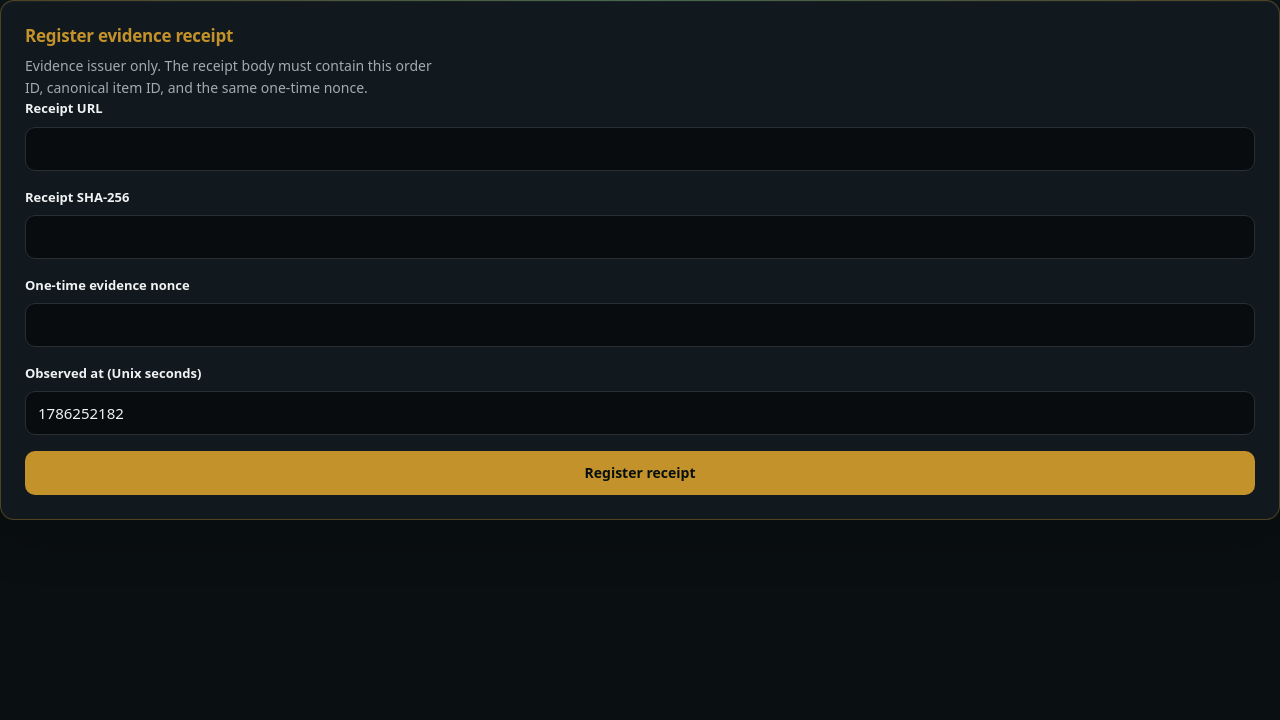
Test: order-bound evidence flow › validates the issuer receipt hash before registration
The image size is (1280, 720).
Type "https://gen-dispute.vercel.app/fixtures/order-0.html" into the field labelled "Receipt URL" at [640, 149], box [25,127,1255,171]
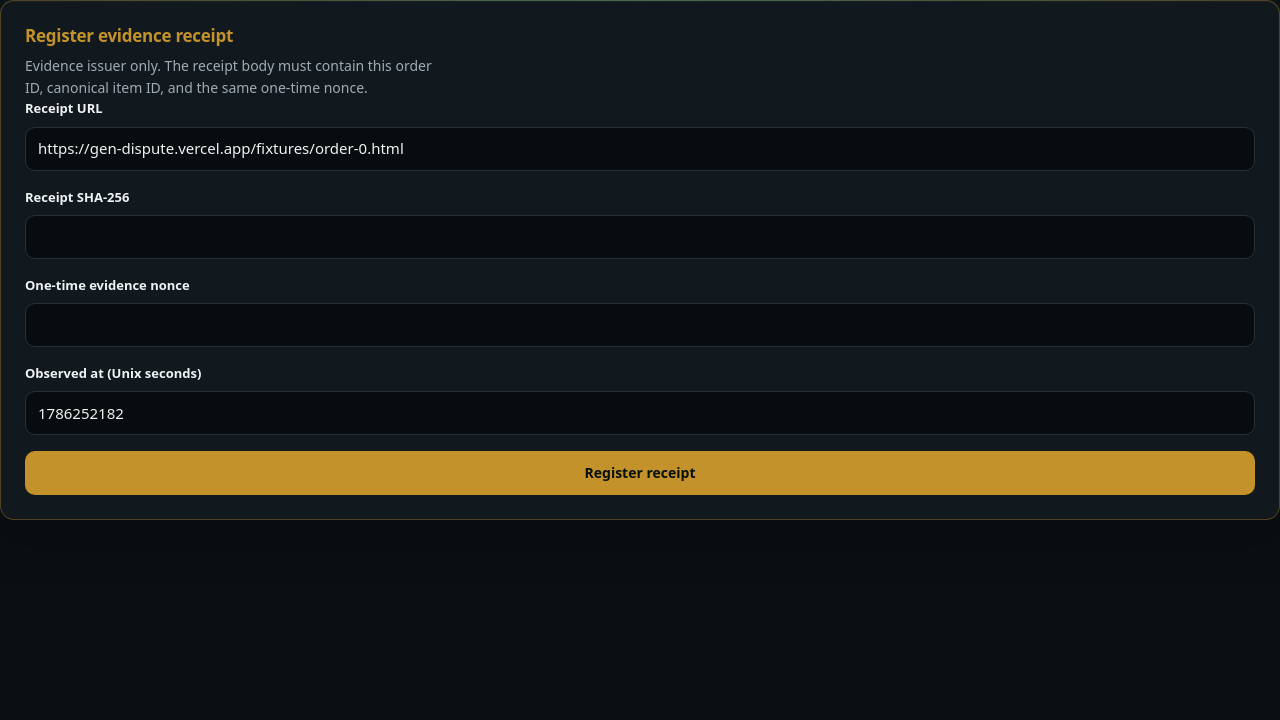
Type "bad" into the field labelled "Receipt SHA-256" at [640, 237], box [25,215,1255,259]
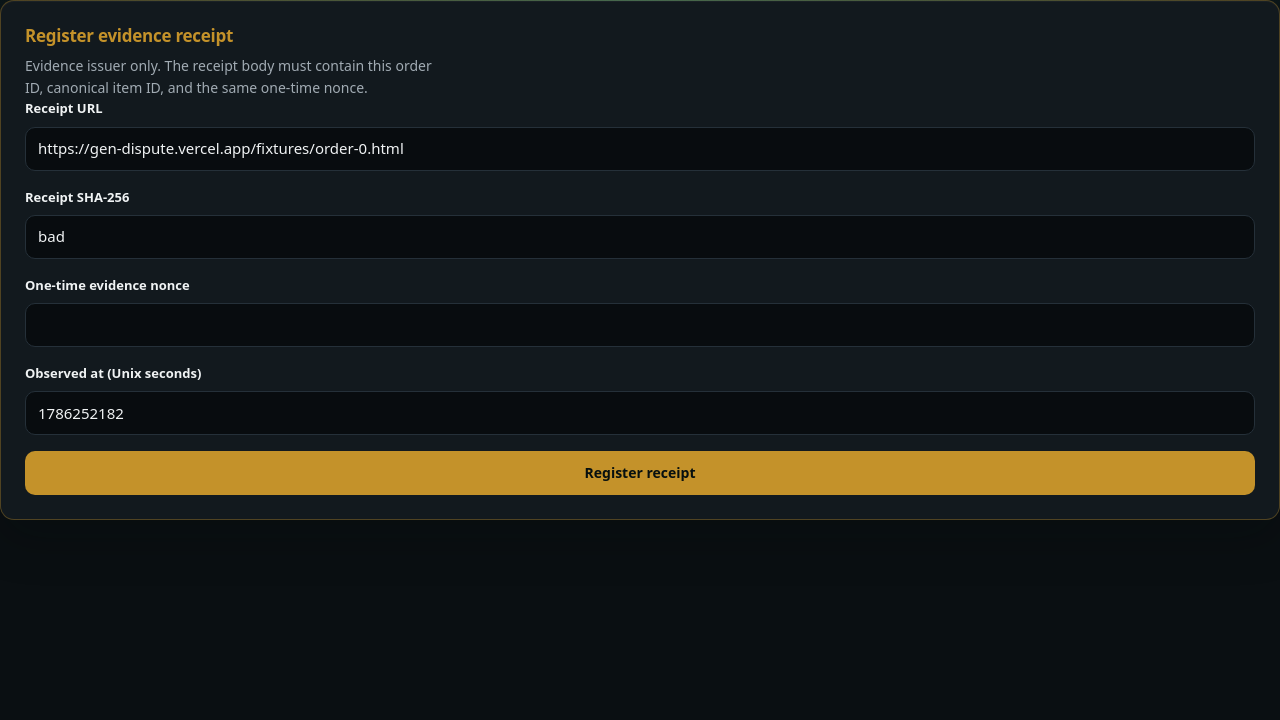
Type "ORDER_0_V1" into the field labelled "One-time evidence nonce" at [640, 325], box [25,303,1255,347]
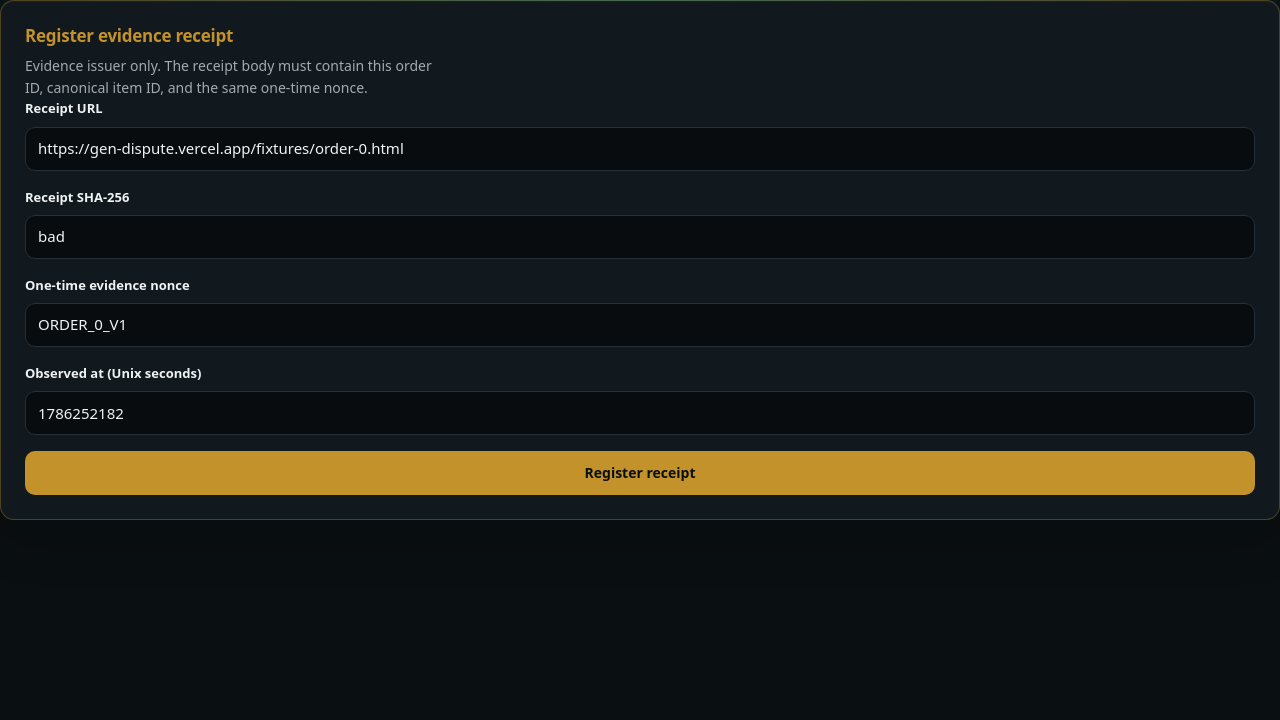
Click the button "Register receipt" at [640, 473], box [25,451,1255,495]
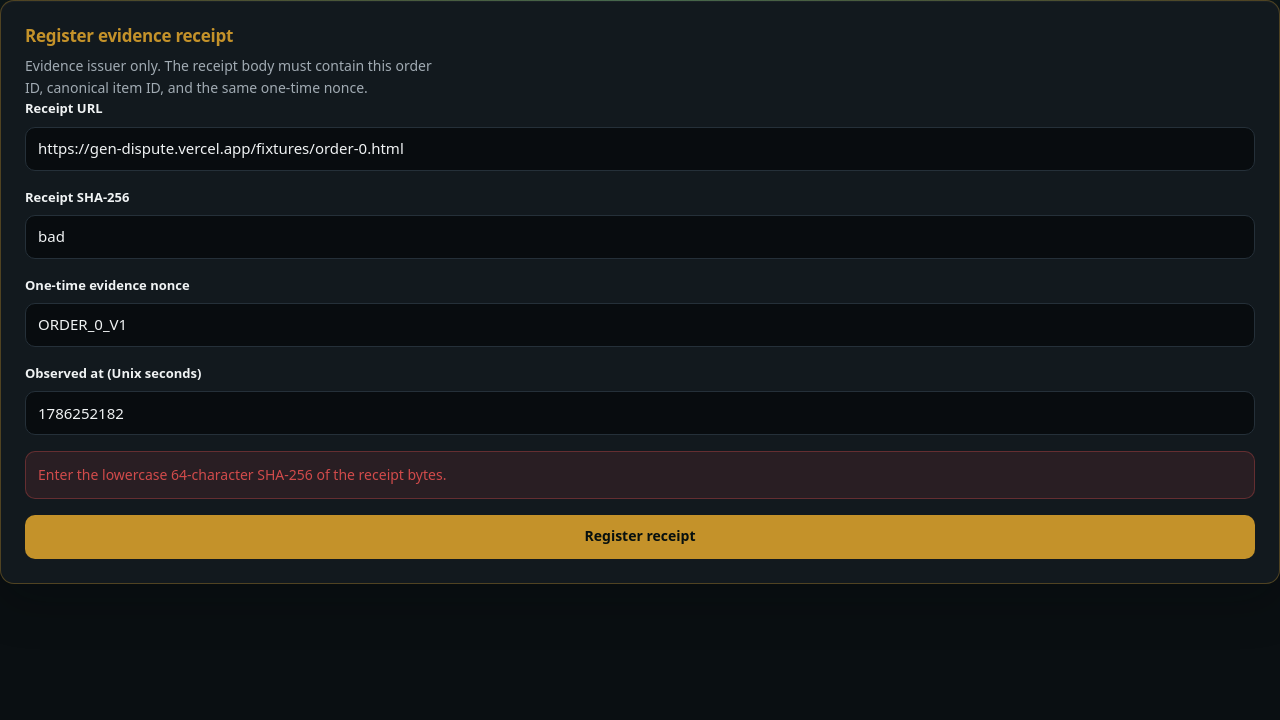
expect the message shows "64-character SHA-256": met, box [38,465,446,484]
